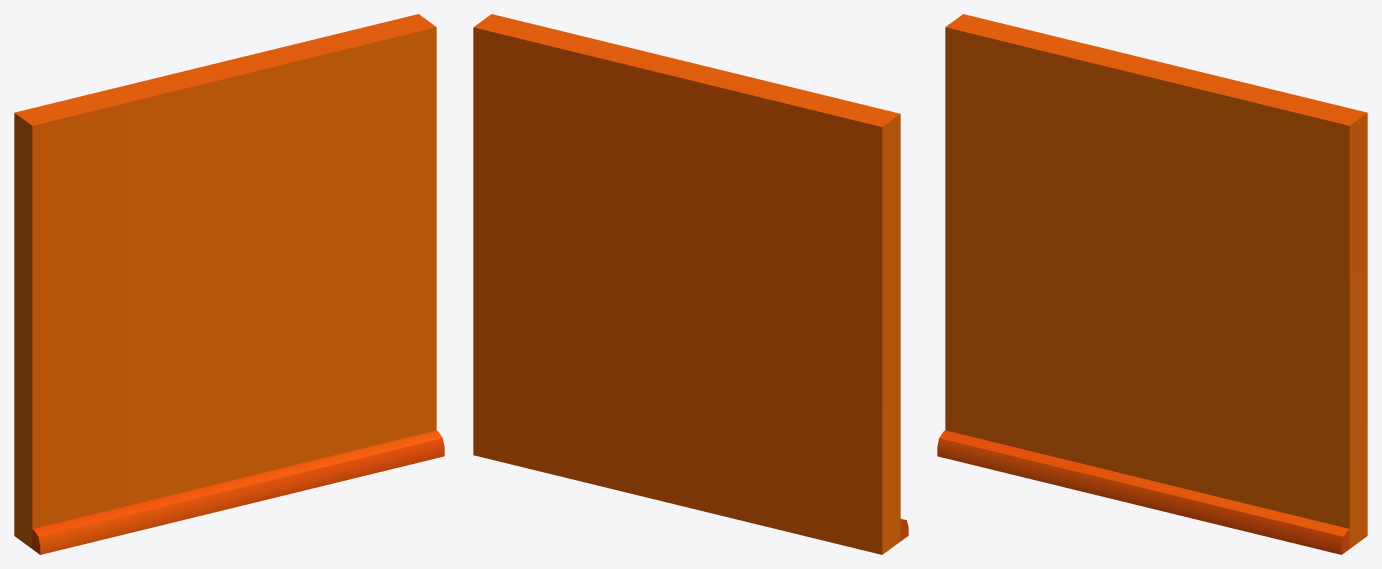
File: O_Wall005.fbx
3 views of the same model, side by side, from view 1: azimuth 30°, elevation 25°; view 2: azimuth 150°, elevation 25°; view 3: azimuth 330°, elevation 25° (orthographic).
Visible parts, largest first — view 1: Wall005.002; view 2: Wall005.002; view 3: Wall005.002.
Part boxes in pixels (left/top/right/bottom): Wall005.002: left=14, top=14, right=444, bottom=554; Wall005.002: left=473, top=14, right=908, bottom=554; Wall005.002: left=937, top=14, right=1367, bottom=554.
Size of the model in its own units: 250 by 250 by 27.87.
Materials: 1 (1 with a texture image).
